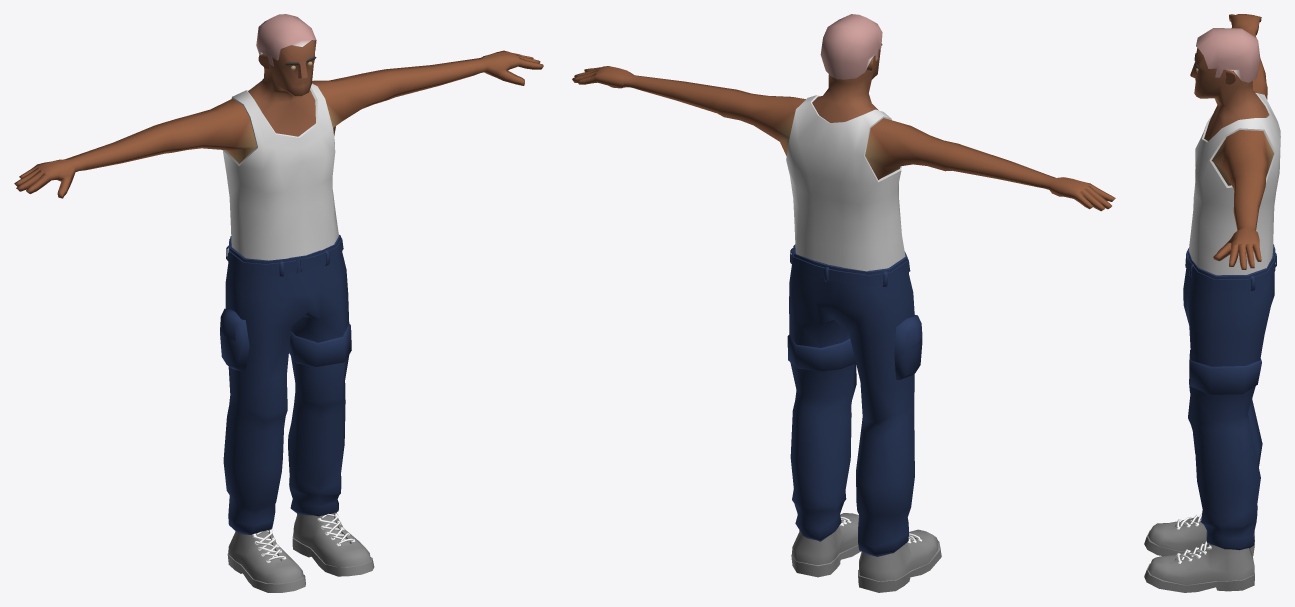
The model's file is HomeOwner.fbx.
3 views of the same model, side by side, from view 1: azimuth 30°, elevation 25°; view 2: azimuth 150°, elevation 25°; view 3: azimuth 270°, elevation 25° (orthographic). The views are drawn at different scales.
Parts seen in each view (by area): view 1: Pants0, Shirt_00, Arms, Boots, Head, DefaultHair; view 2: Pants0, Shirt_00, Arms, Boots, DefaultHair, Head; view 3: Pants0, Shirt_00, Boots, Arms, Head, DefaultHair.
Boxes of the visible parts, left/top/right/bottom form: Pants0: left=220, top=234, right=351, bottom=534; Shirt_00: left=222, top=83, right=338, bottom=260; Arms: left=14, top=50, right=543, bottom=198; Boots: left=227, top=512, right=374, bottom=592; Head: left=248, top=40, right=315, bottom=136; DefaultHair: left=256, top=14, right=316, bottom=66; Pants0: left=787, top=244, right=922, bottom=556; Shirt_00: left=786, top=95, right=905, bottom=271; Arms: left=572, top=66, right=1115, bottom=211; Boots: left=791, top=513, right=941, bottom=592; DefaultHair: left=820, top=14, right=882, bottom=79; Head: left=812, top=48, right=880, bottom=122; Pants0: left=1183, top=244, right=1276, bottom=550; Shirt_00: left=1188, top=93, right=1280, bottom=275; Boots: left=1144, top=513, right=1254, bottom=592; Arms: left=1211, top=14, right=1274, bottom=269; Head: left=1190, top=47, right=1269, bottom=141; DefaultHair: left=1196, top=28, right=1260, bottom=82.
Size of the model in its own units: 196 by 193 by 44.54.
